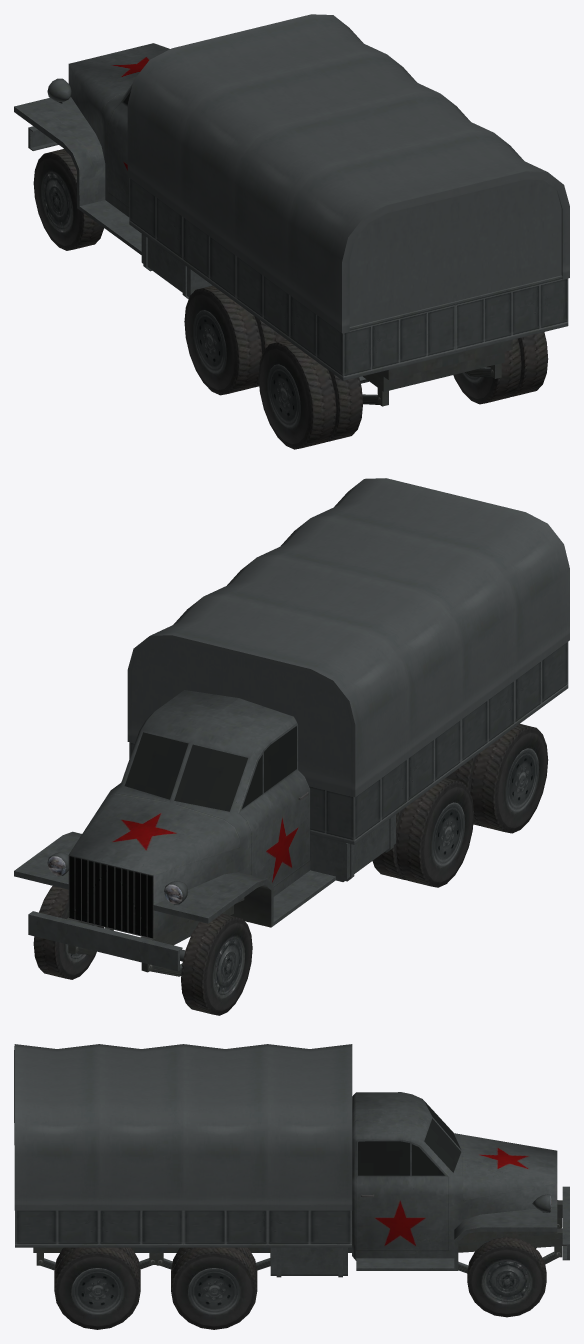
File: truck_supply.glb
3 views of the same model, one above another, from view 1: azimuth 30°, elevation 25°; view 2: azimuth 150°, elevation 25°; view 3: azimuth 270°, elevation 25° (orthographic). The views are drawn at different scales.
Visible parts, largest first — view 1: Object_3, Object_2; view 2: Object_2, Object_3; view 3: Object_2, Object_3.
Boxes of the visible parts, x1=… form: Object_3: x1=127, y1=14, x2=569, y2=333; Object_2: x1=14, y1=43, x2=568, y2=449; Object_2: x1=14, y1=642, x2=568, y2=1015; Object_3: x1=127, y1=478, x2=569, y2=797; Object_2: x1=15, y1=1092, x2=569, y2=1329; Object_3: x1=14, y1=1044, x2=352, y2=1210.
Size of the model in its own units: 2.45 by 2.63 by 6.3.
Materials: 2 (2 with a texture image).
